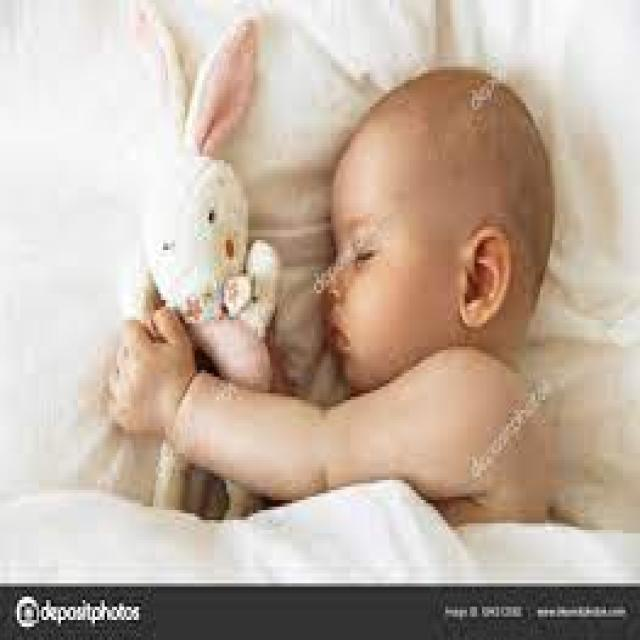soft-toy: (138, 2, 279, 389)
